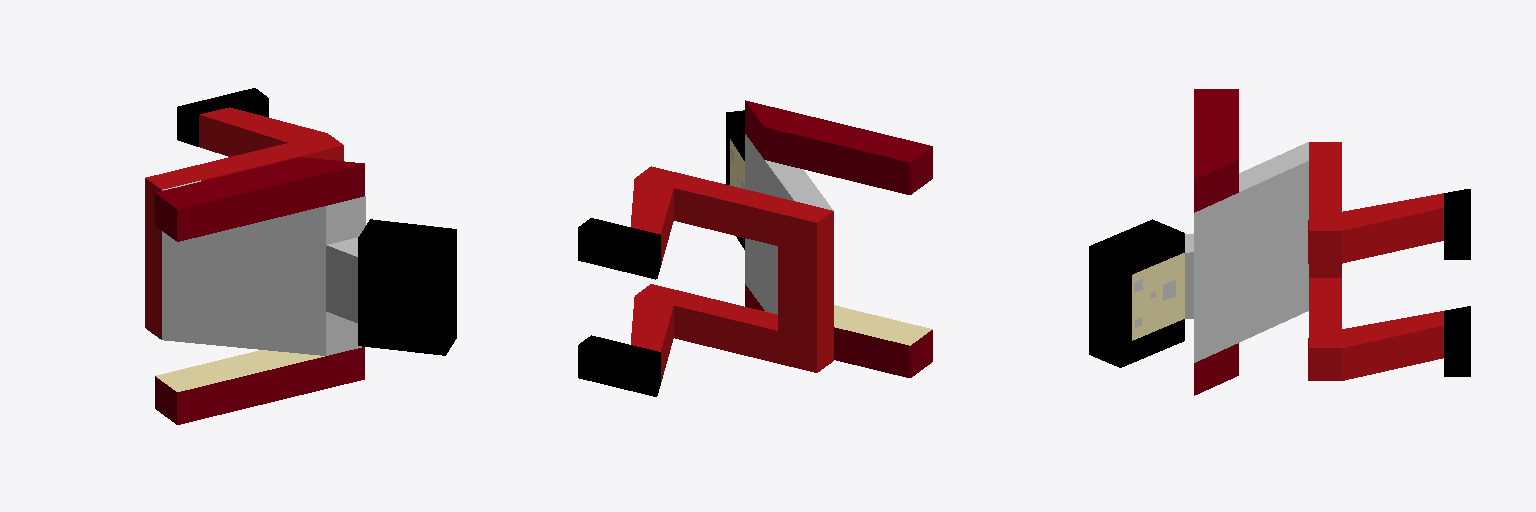
3 renders of one model, left to right at view 1: azimuth 30°, elevation 25°; view 2: azimuth 150°, elevation 25°; view 3: azimuth 270°, elevation 25°, orthographic.
Parts seen in each view (by area): view 1: Mesh1_Model; view 2: Mesh1_Model; view 3: Mesh1_Model.
Part boxes in pixels (bbox=[...]): Mesh1_Model: bbox=[145, 88, 456, 424]; Mesh1_Model: bbox=[578, 100, 932, 396]; Mesh1_Model: bbox=[1089, 89, 1470, 395].
Size of the model in its own units: 0.9322 by 0.79 by 1.27.
6 materials, 2 textured.